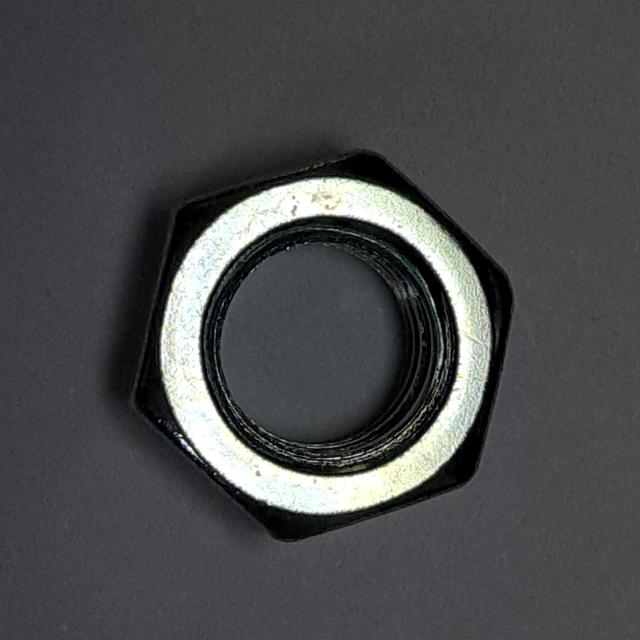Excellent: (114, 136, 521, 553)
